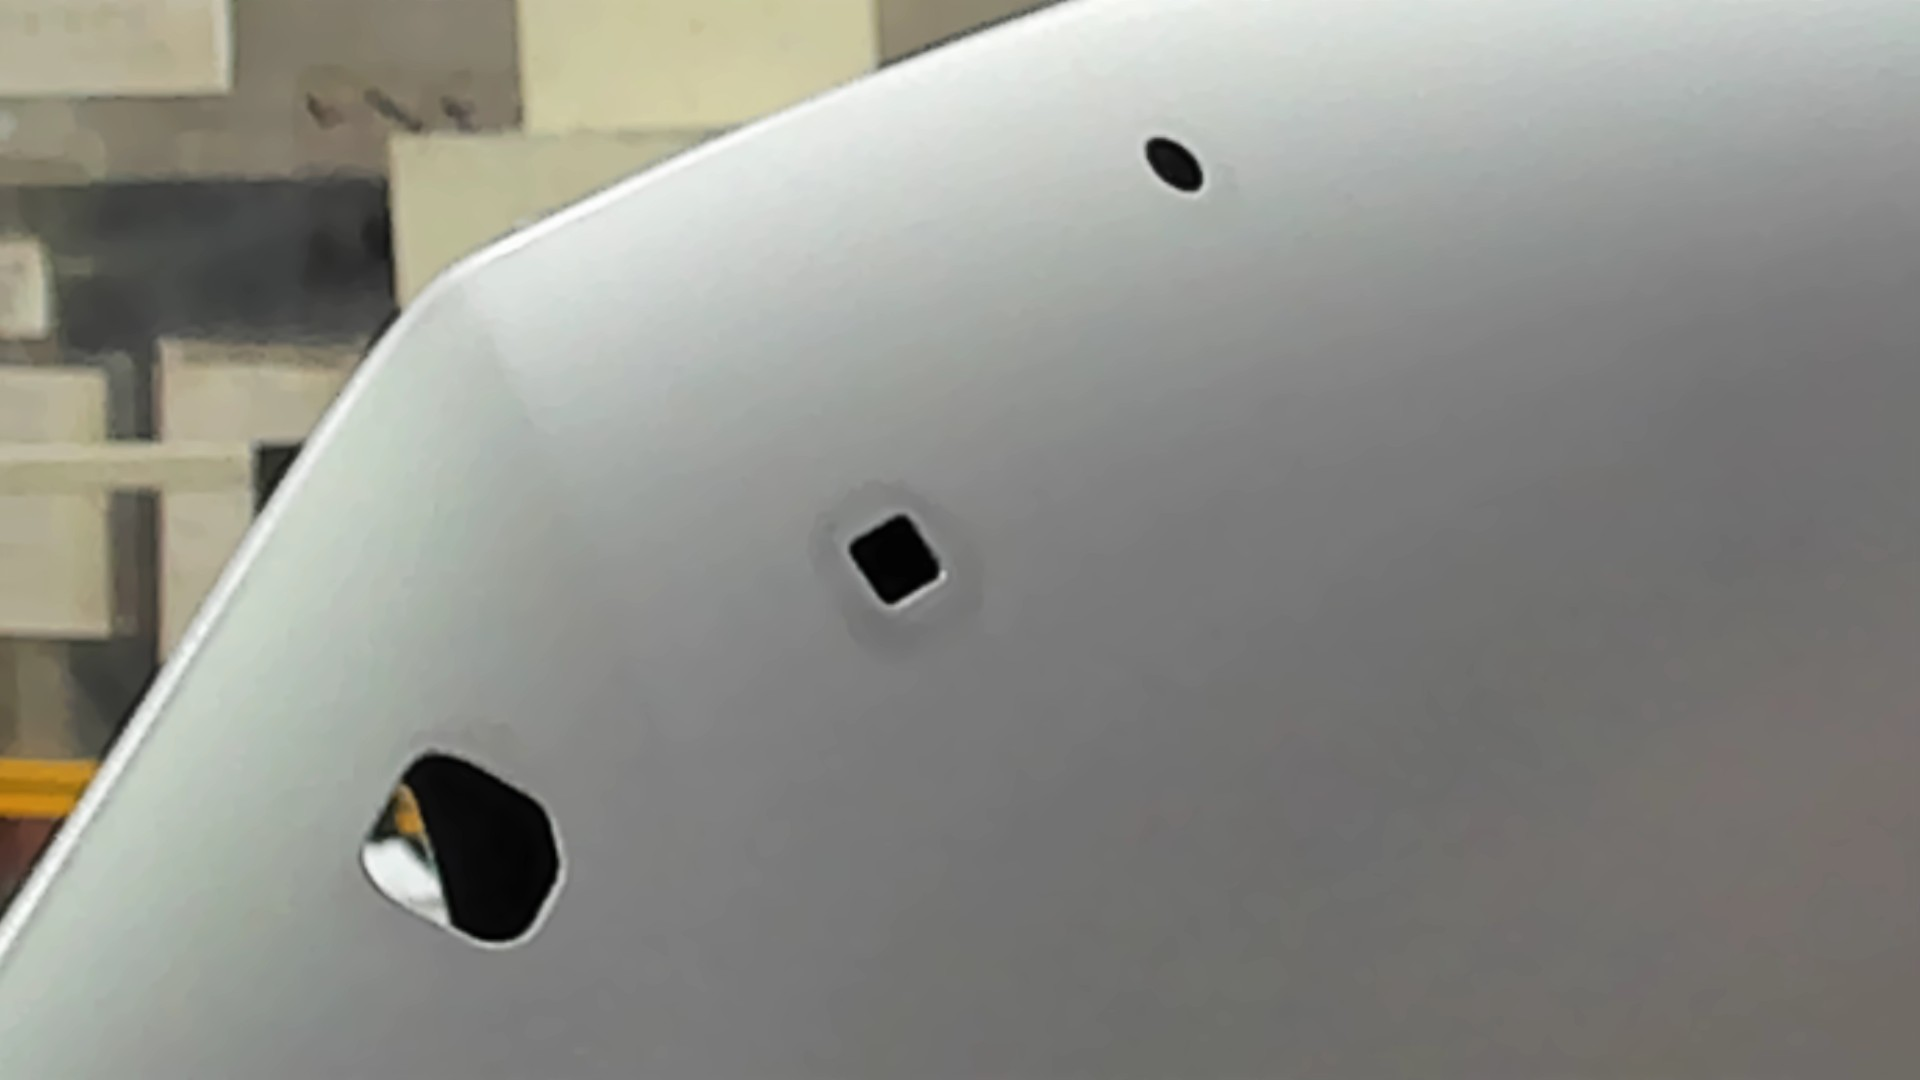capo: (953, 200, 1920, 1080)
chico: (1138, 128, 1211, 200)
grande: (355, 746, 568, 956)
mediano: (836, 509, 952, 615)
